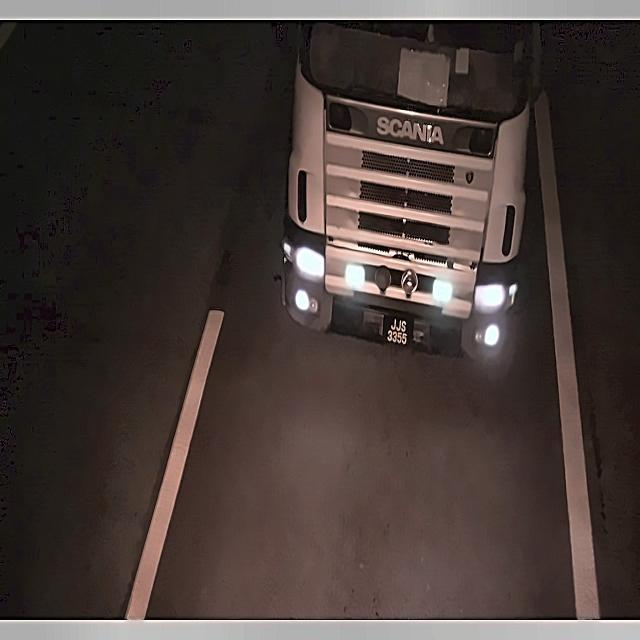car: (384, 311, 413, 351)
